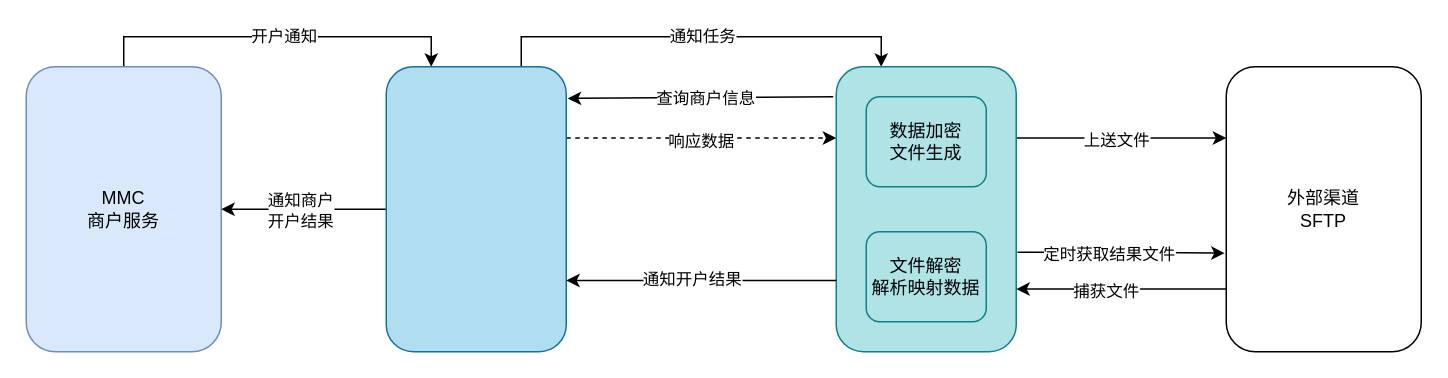
Some shapes in this 1448 by 378 pixel diagram are drawn without their labels. The box of each missing label's shape, as (x1, y1, x2, y2) in pixels:
文件交换: (835, 65, 1016, 352)
机构中心: (385, 65, 566, 352)
